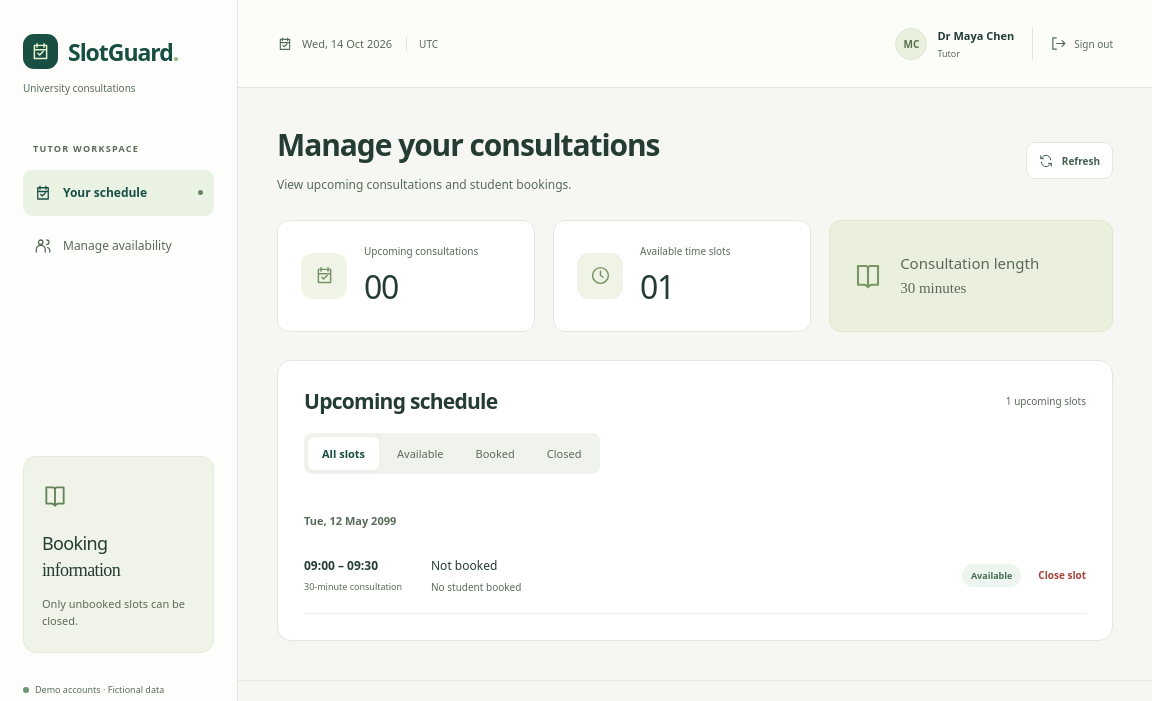
Test case: Tutor availability management › creates a fixed-duration slot using a local datetime converted to UTC
This screenshot has width=1152, height=701.
Expected: the navigation bar named "Main navigation" is shown, [23,170,214,268]
Click the button "Manage availability" at (118, 246), box [23,222,214,268]
(page scrolled)
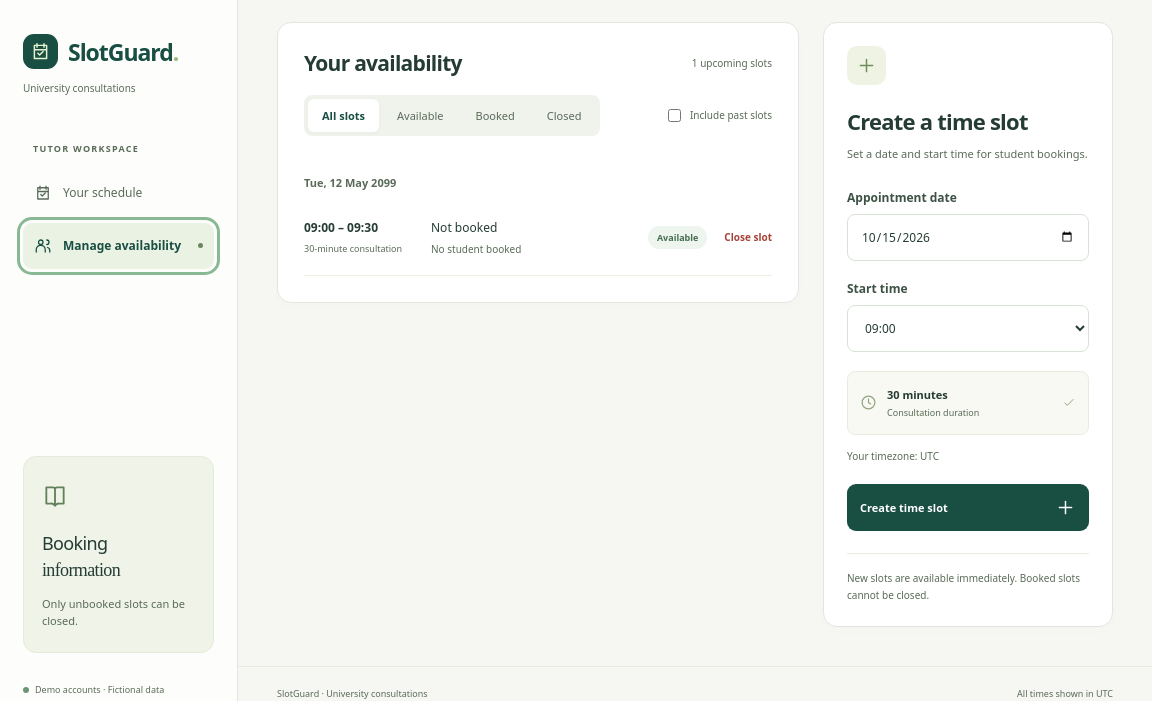
Click the button "Create time slot" at (968, 508), box [847,484,1089,531]
(page scrolled)
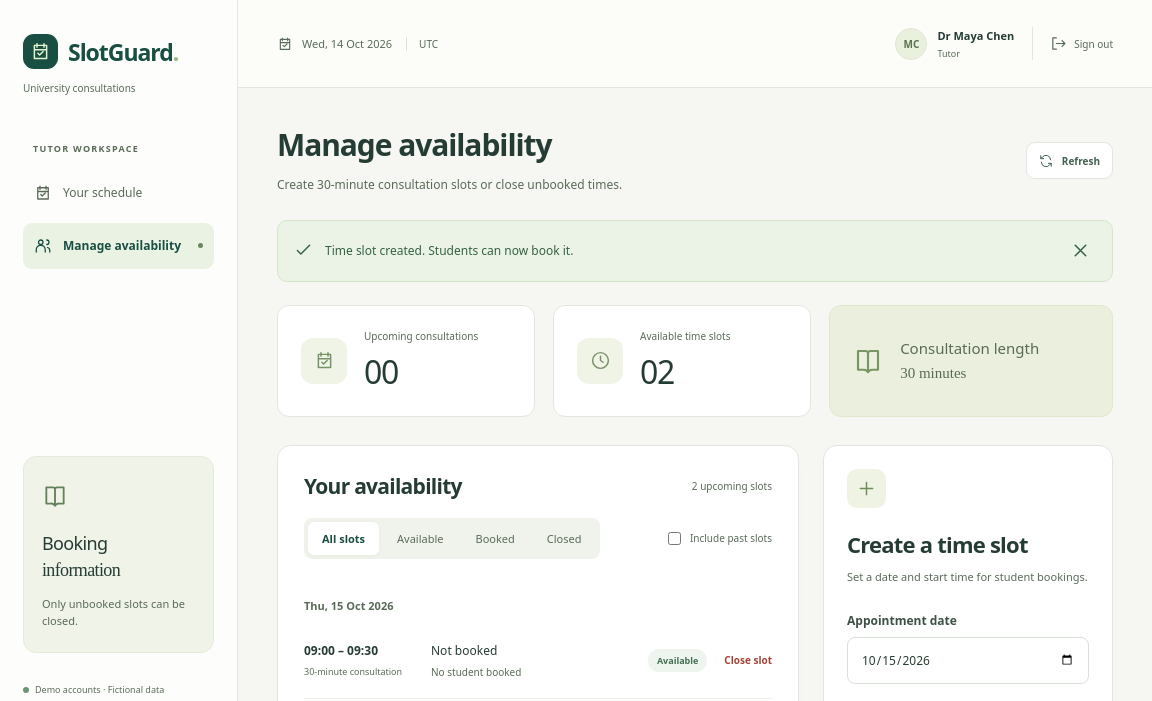
Expected: the text "Time slot created. Students can now book it." is shown, [325,241,573,260]
